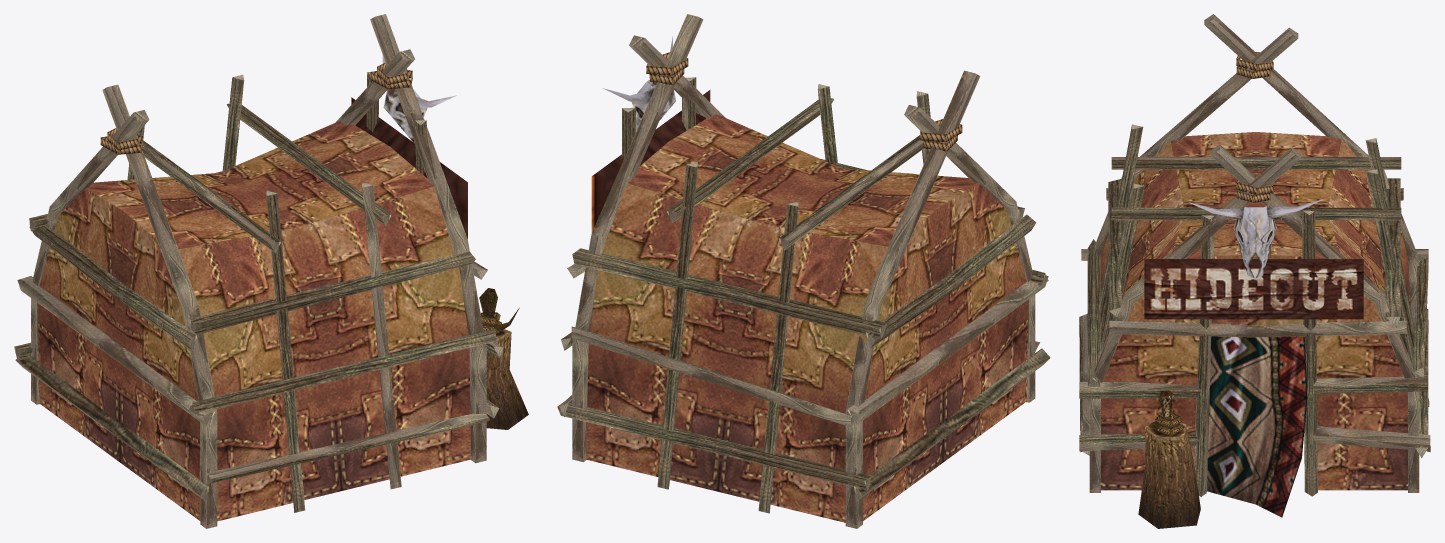
3 views of the same model, side by side, from view 1: azimuth 30°, elevation 25°; view 2: azimuth 150°, elevation 25°; view 3: azimuth 270°, elevation 25° (orthographic). The views are drawn at different scales.
Visible parts, largest first — view 1: objpolySurface20; view 2: objpolySurface20; view 3: objpolySurface20.
Part boxes in pixels (left/top/right/bottom): objpolySurface20: left=14, top=14, right=528, bottom=528; objpolySurface20: left=557, top=14, right=1050, bottom=528; objpolySurface20: left=1079, top=14, right=1430, bottom=528.
Size of the model in its own units: 505 by 482 by 441.
Materials: 1 (1 with a texture image).
